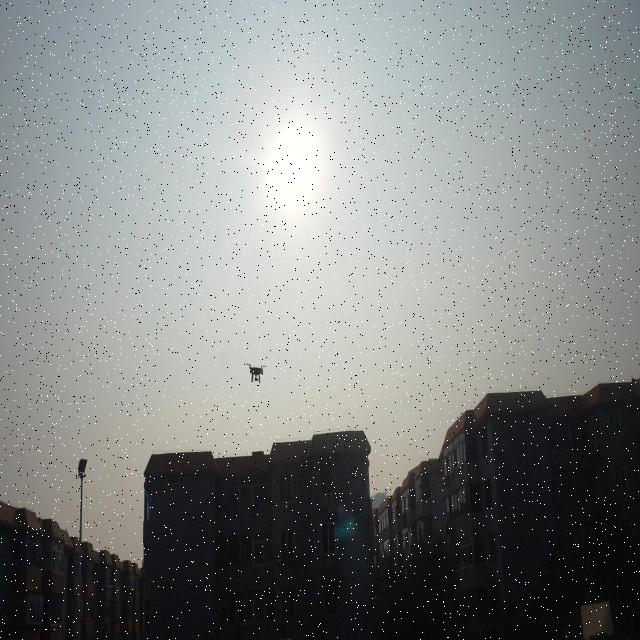UAV: (245, 363, 267, 384)
